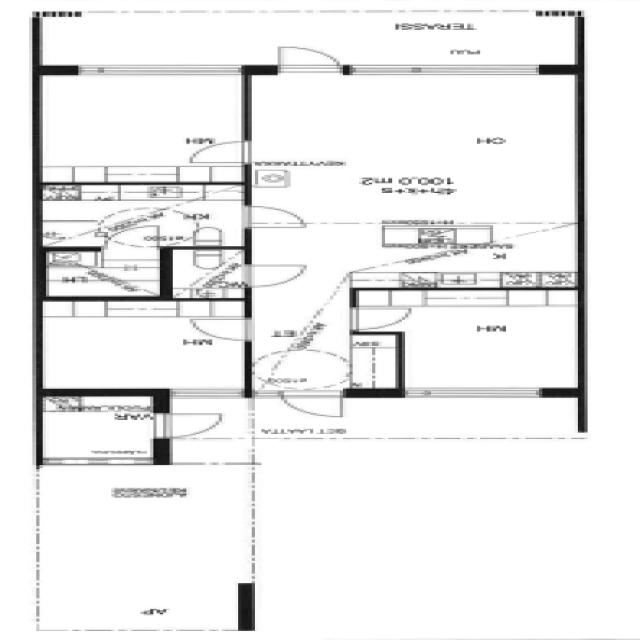door: (32, 184, 254, 250), (168, 250, 258, 295), (258, 348, 356, 380), (146, 409, 238, 441), (264, 42, 348, 76), (179, 314, 264, 344), (274, 388, 352, 420), (236, 202, 318, 232), (177, 138, 260, 167), (232, 261, 313, 290), (342, 305, 418, 332), (94, 224, 174, 249)
window: (62, 61, 256, 78), (344, 63, 550, 79), (392, 384, 560, 402), (35, 453, 164, 469)
zone: (244, 63, 584, 270), (36, 70, 249, 184), (358, 287, 586, 393), (34, 297, 249, 393), (34, 182, 252, 250), (33, 393, 164, 463), (36, 248, 163, 298), (166, 247, 251, 301)
